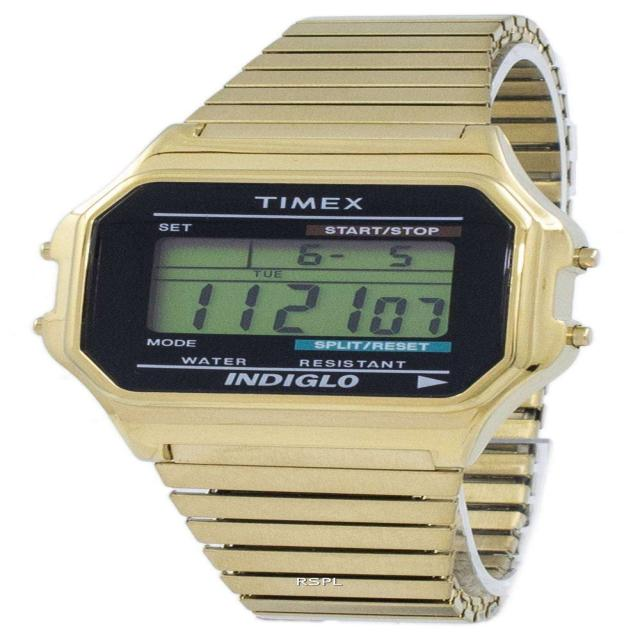watch: (41, 26, 594, 632)
